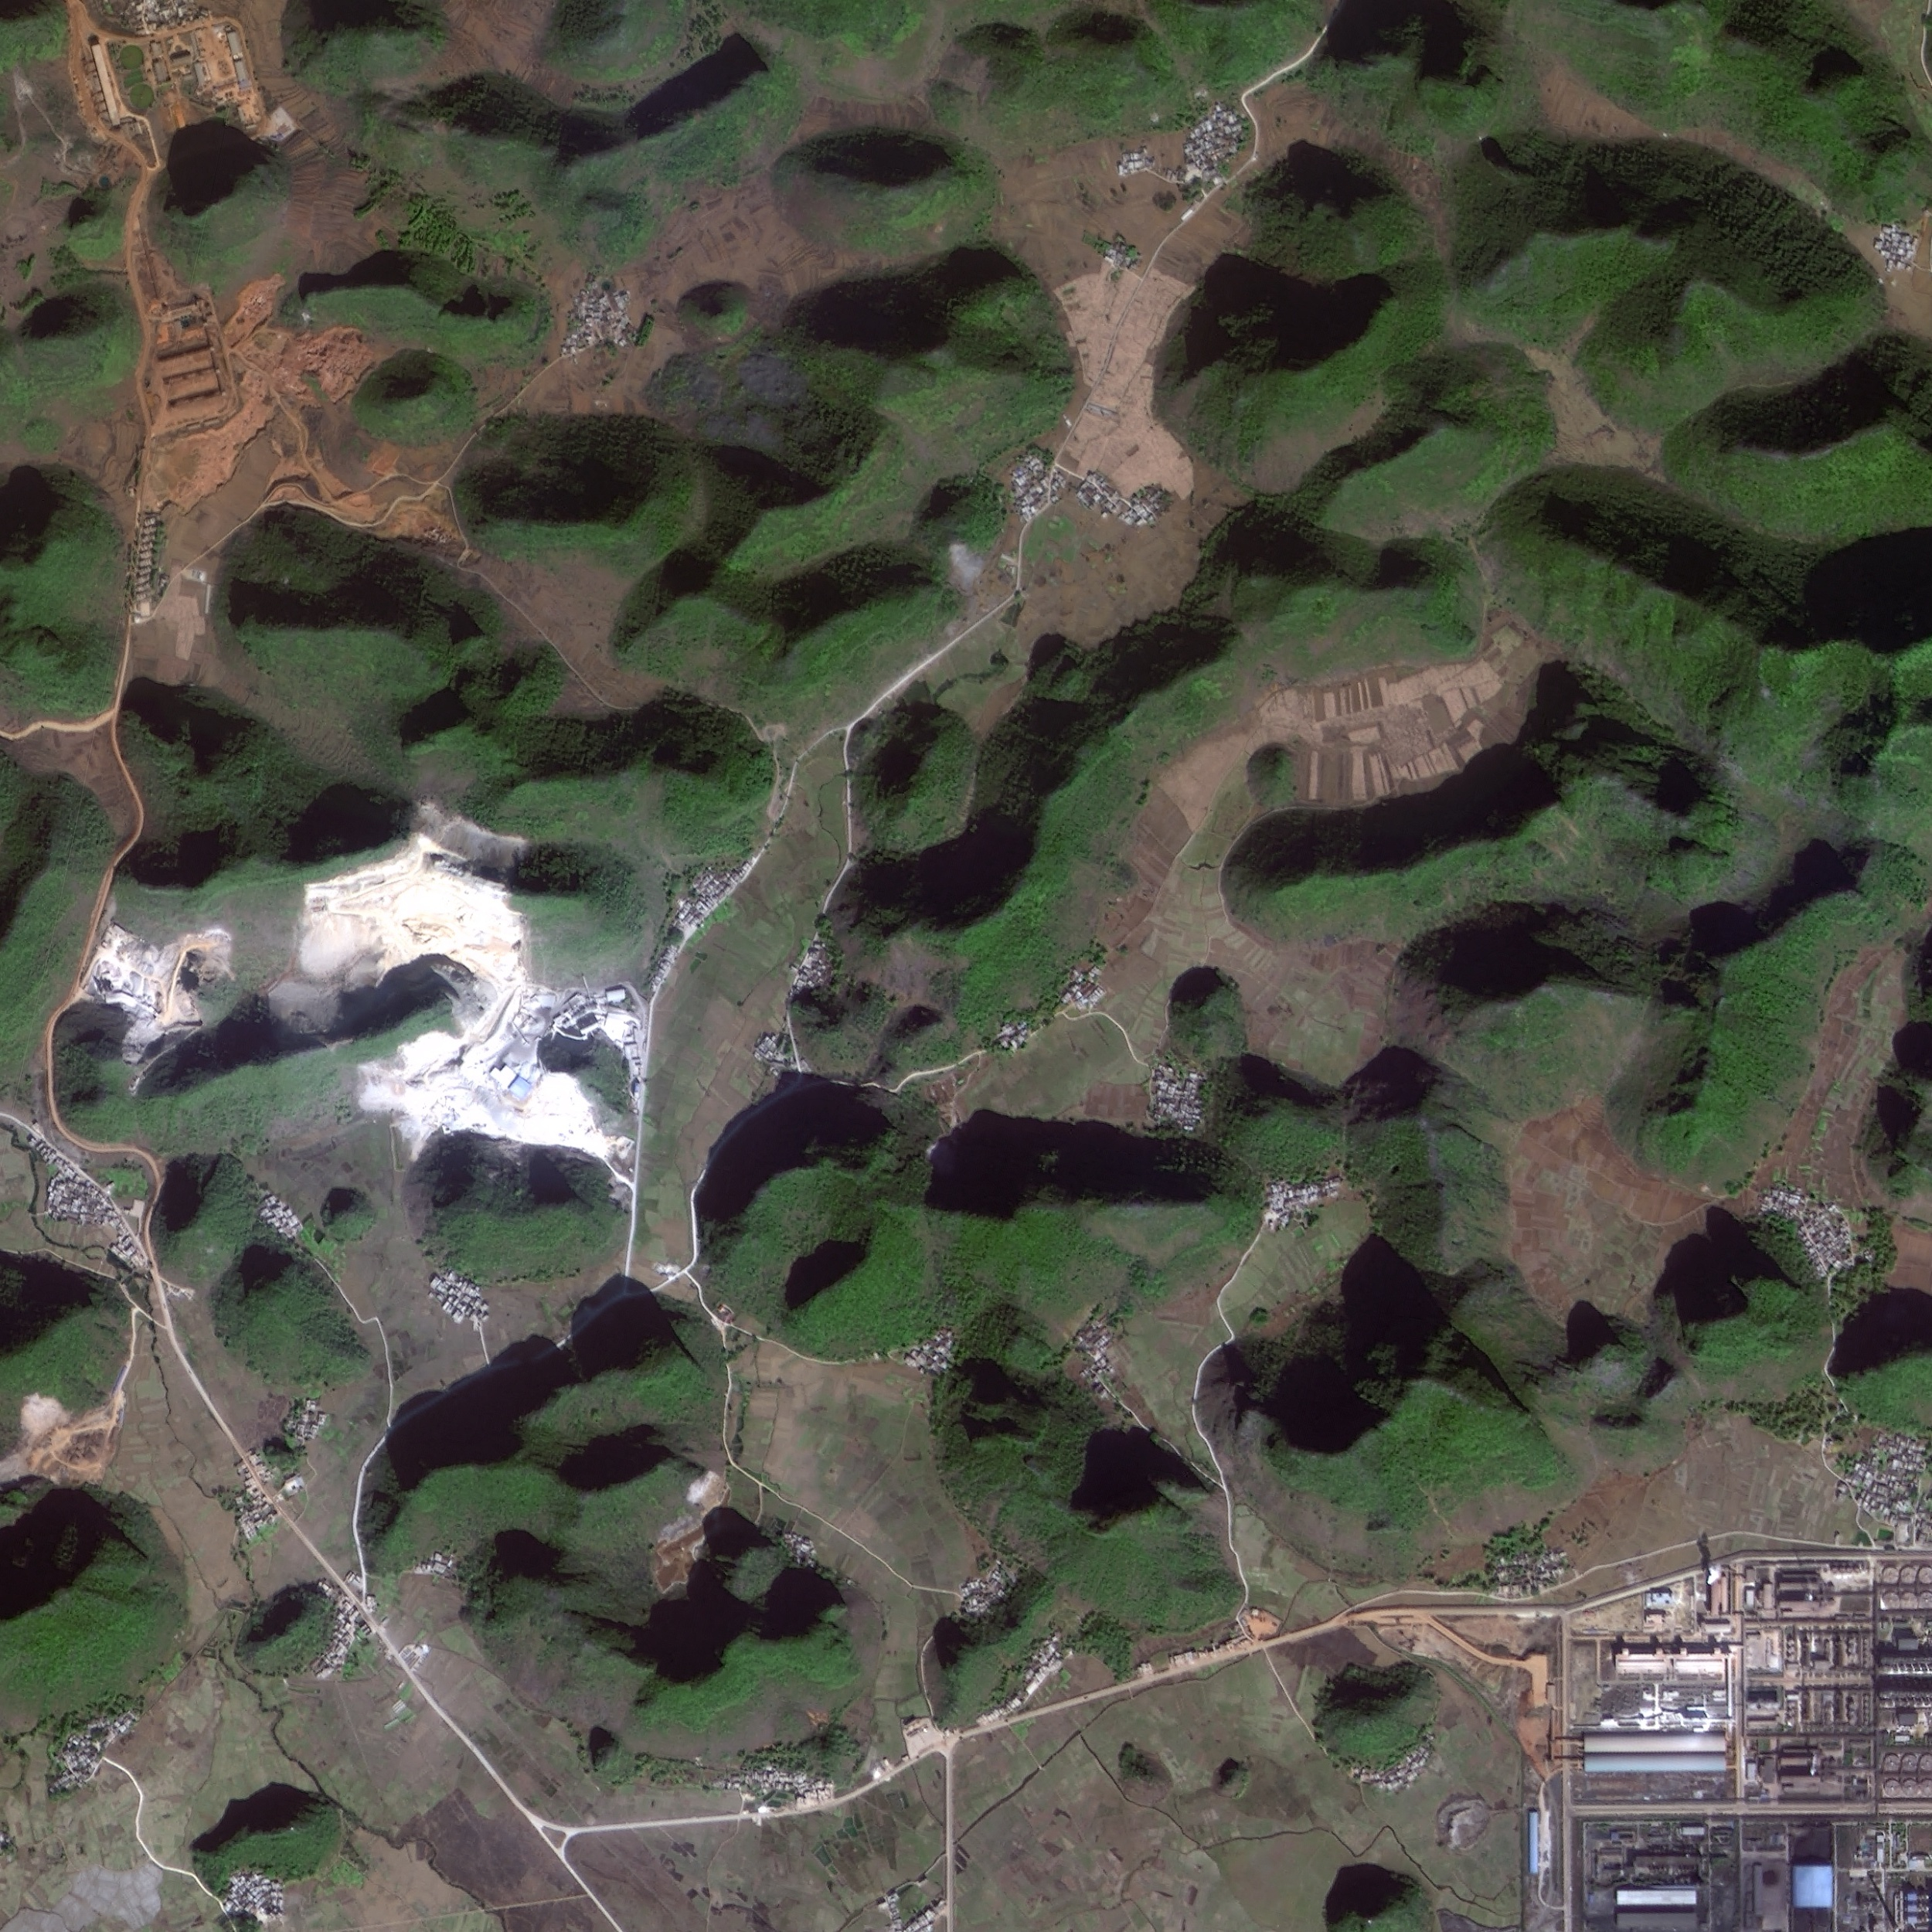SteelPlant: (1516, 1541, 1932, 1927)
